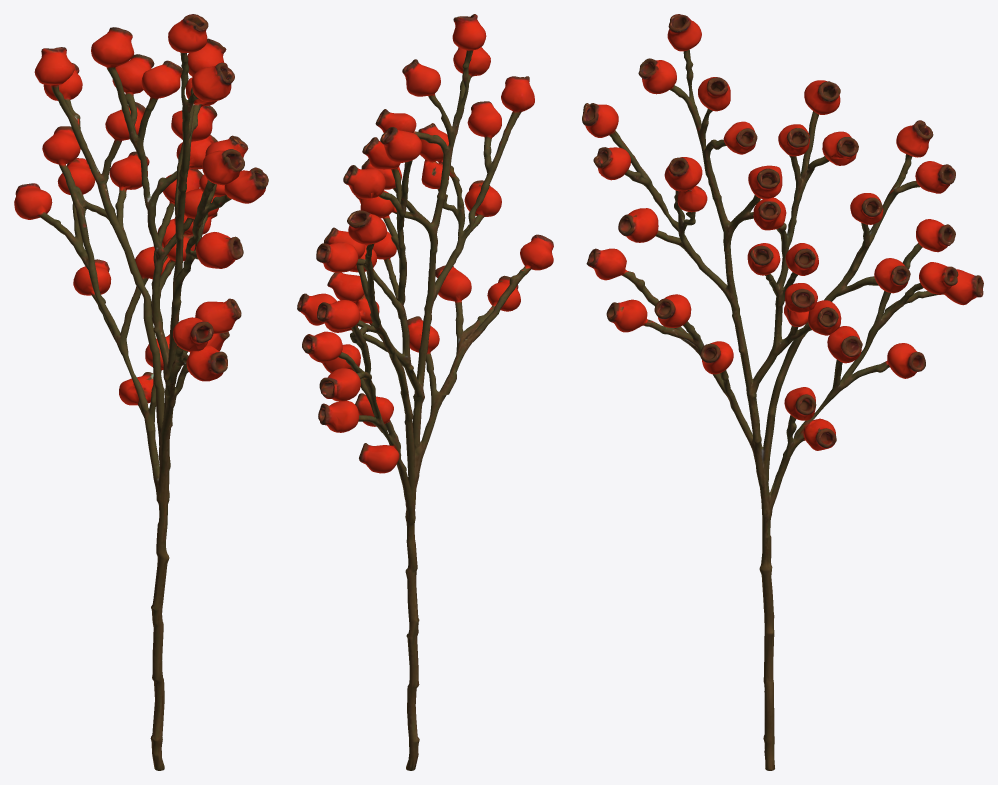
File: RedBerry.glb
The picture shows the model from 3 angles, left to right: view 1: azimuth 30°, elevation 25°; view 2: azimuth 150°, elevation 25°; view 3: azimuth 270°, elevation 25°; orthographic projection. The views are drawn at different scales.
Visible parts, largest first — view 1: tripo_node_faf51cab-41f7-4aea-b801-4d1c9138c171; view 2: tripo_node_faf51cab-41f7-4aea-b801-4d1c9138c171; view 3: tripo_node_faf51cab-41f7-4aea-b801-4d1c9138c171.
Part boxes in pixels (x1,y1,x2,y2): tripo_node_faf51cab-41f7-4aea-b801-4d1c9138c171: (14, 14, 268, 770); tripo_node_faf51cab-41f7-4aea-b801-4d1c9138c171: (297, 14, 553, 770); tripo_node_faf51cab-41f7-4aea-b801-4d1c9138c171: (582, 14, 983, 770).
Size of the model in its own units: 0.1877 by 0.9998 by 0.4884.
Materials: 1 (1 with a texture image).
